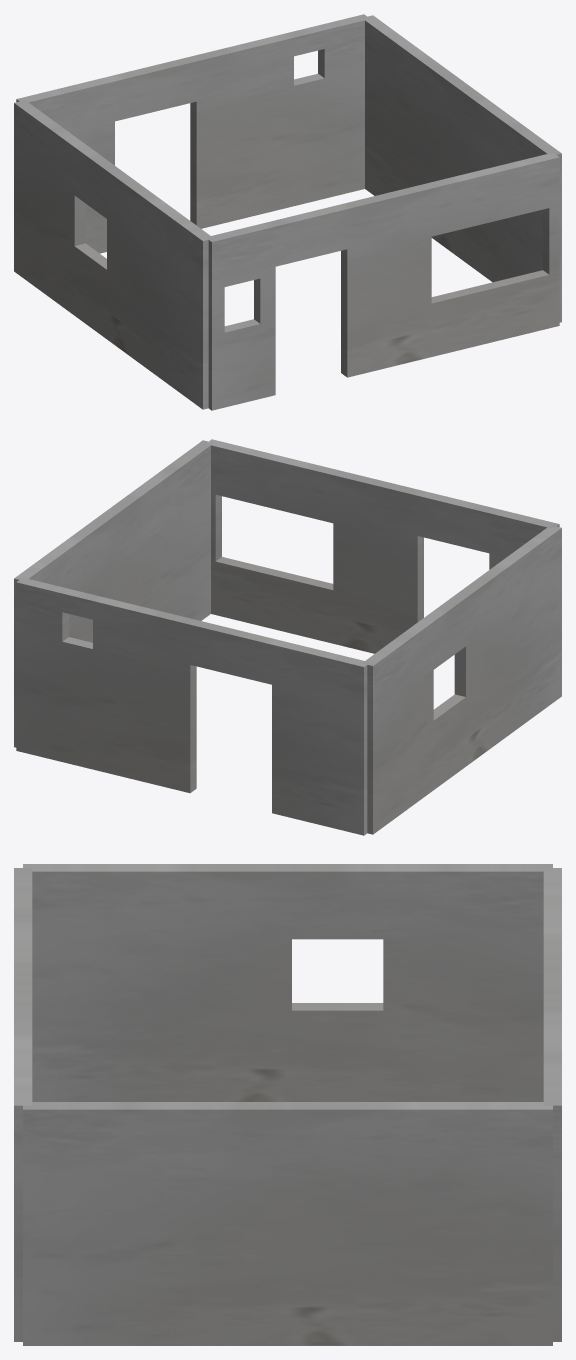
The model's file is BW_Merchant01_Plaster.fbx.
The picture shows the model from 3 angles, top to bottom: view 1: azimuth 30°, elevation 25°; view 2: azimuth 150°, elevation 25°; view 3: azimuth 270°, elevation 25°; orthographic projection. The views are drawn at different scales.
Visible parts, largest first — view 1: BW_Merchant01_Plaster; view 2: BW_Merchant01_Plaster; view 3: BW_Merchant01_Plaster.
Part boxes in pixels (x1,y1,x2,y2): BW_Merchant01_Plaster: (14,14,561,410); BW_Merchant01_Plaster: (14,439,561,835); BW_Merchant01_Plaster: (14,864,561,1345).
Bounding box in the file's own units: 7.02 × 3.15 × 6.62.
